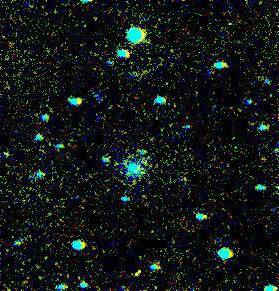star: (65, 84, 95, 114)
